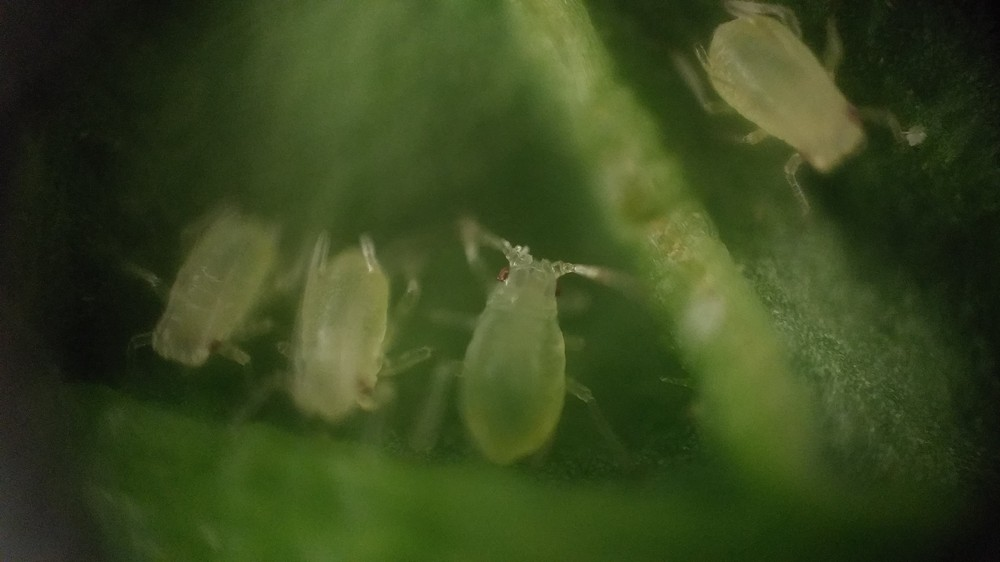Pulgon: (403, 211, 662, 476), (658, 9, 934, 208), (270, 213, 424, 439), (113, 174, 289, 370)
